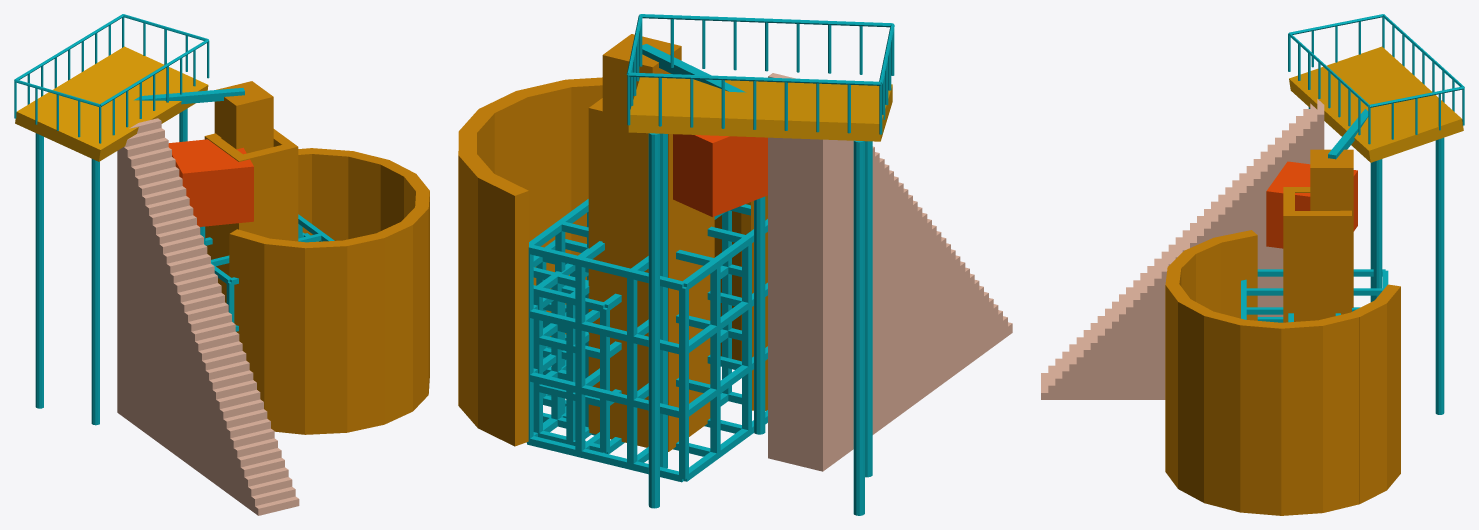
File: folie_tag_021.glb
3 renders of one model, left to right at view 1: azimuth 30°, elevation 25°; view 2: azimuth 150°, elevation 25°; view 3: azimuth 270°, elevation 25°, orthographic. The views are drawn at different scales.
Parts seen in each view (by area): view 1: folie_tag_021_03_curve, folie_tag_021_stairs, folie_tag_021_01_plate, folie_tag_021_line, folie_tag_021_02_tower, folie_tag_021_05_block, folie_tag_021_core, folie_tag_021_00_cage; view 2: folie_tag_021_stairs, folie_tag_021_03_curve, folie_tag_021_00_cage, folie_tag_021_line, folie_tag_021_core, folie_tag_021_01_plate, folie_tag_021_02_tower, folie_tag_021_04_cage, folie_tag_021_05_block; view 3: folie_tag_021_03_curve, folie_tag_021_stairs, folie_tag_021_01_plate, folie_tag_021_line, folie_tag_021_02_tower, folie_tag_021_core, folie_tag_021_05_block, folie_tag_021_00_cage.
Boxes of the visible parts, x1,y1,x2,y2 form: folie_tag_021_03_curve: [229, 148, 429, 434]; folie_tag_021_stairs: [117, 118, 299, 515]; folie_tag_021_01_plate: [15, 46, 208, 161]; folie_tag_021_line: [14, 14, 244, 425]; folie_tag_021_02_tower: [204, 129, 298, 303]; folie_tag_021_05_block: [168, 139, 253, 226]; folie_tag_021_core: [214, 81, 273, 153]; folie_tag_021_00_cage: [205, 214, 334, 331]; folie_tag_021_stairs: [768, 73, 1012, 471]; folie_tag_021_03_curve: [458, 77, 767, 446]; folie_tag_021_00_cage: [526, 199, 767, 482]; folie_tag_021_line: [626, 14, 894, 515]; folie_tag_021_core: [602, 34, 681, 447]; folie_tag_021_01_plate: [628, 77, 892, 141]; folie_tag_021_02_tower: [588, 98, 714, 451]; folie_tag_021_04_cage: [533, 239, 624, 454]; folie_tag_021_05_block: [673, 134, 767, 217]; folie_tag_021_03_curve: [1165, 230, 1400, 515]; folie_tag_021_stairs: [1041, 99, 1324, 399]; folie_tag_021_01_plate: [1289, 46, 1463, 162]; folie_tag_021_line: [1288, 14, 1464, 414]; folie_tag_021_02_tower: [1283, 187, 1351, 322]; folie_tag_021_core: [1310, 149, 1353, 307]; folie_tag_021_05_block: [1266, 161, 1357, 248]; folie_tag_021_00_cage: [1241, 269, 1388, 322].
Bounding box in the file's own units: 10.34 × 9.33 × 10.77.
